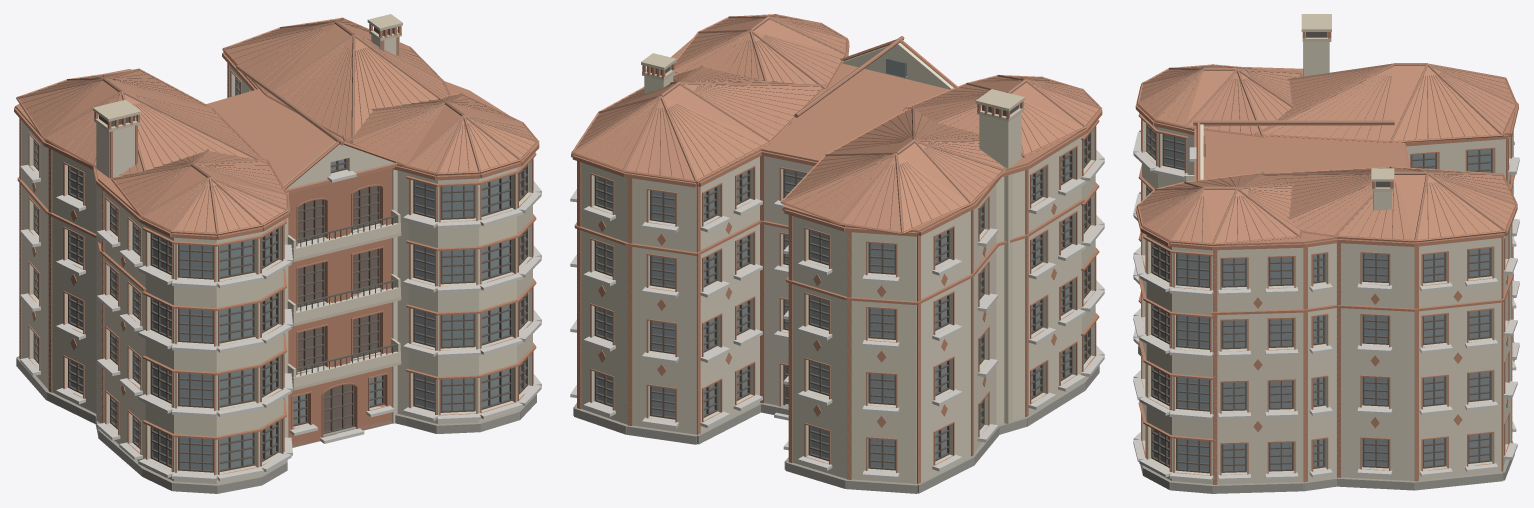
File: huangpu-king-albert-corner-house-raw.glb
3 views of the same model, side by side, from view 1: azimuth 30°, elevation 25°; view 2: azimuth 150°, elevation 25°; view 3: azimuth 270°, elevation 25° (orthographic). The views are drawn at different scales.
Visible parts, largest first — view 1: 陕南邨西南转角住宅（亚尔培公寓）; view 2: 陕南邨西南转角住宅（亚尔培公寓）; view 3: 陕南邨西南转角住宅（亚尔培公寓）.
Boxes of the visible parts, x1,y1,x2,y2 form: 陕南邨西南转角住宅（亚尔培公寓）: (14,14,541,493); 陕南邨西南转角住宅（亚尔培公寓）: (570,14,1104,493); 陕南邨西南转角住宅（亚尔培公寓）: (1133,14,1519,493).
Size of the model in its own units: 19.76 by 15.58 by 17.7.
